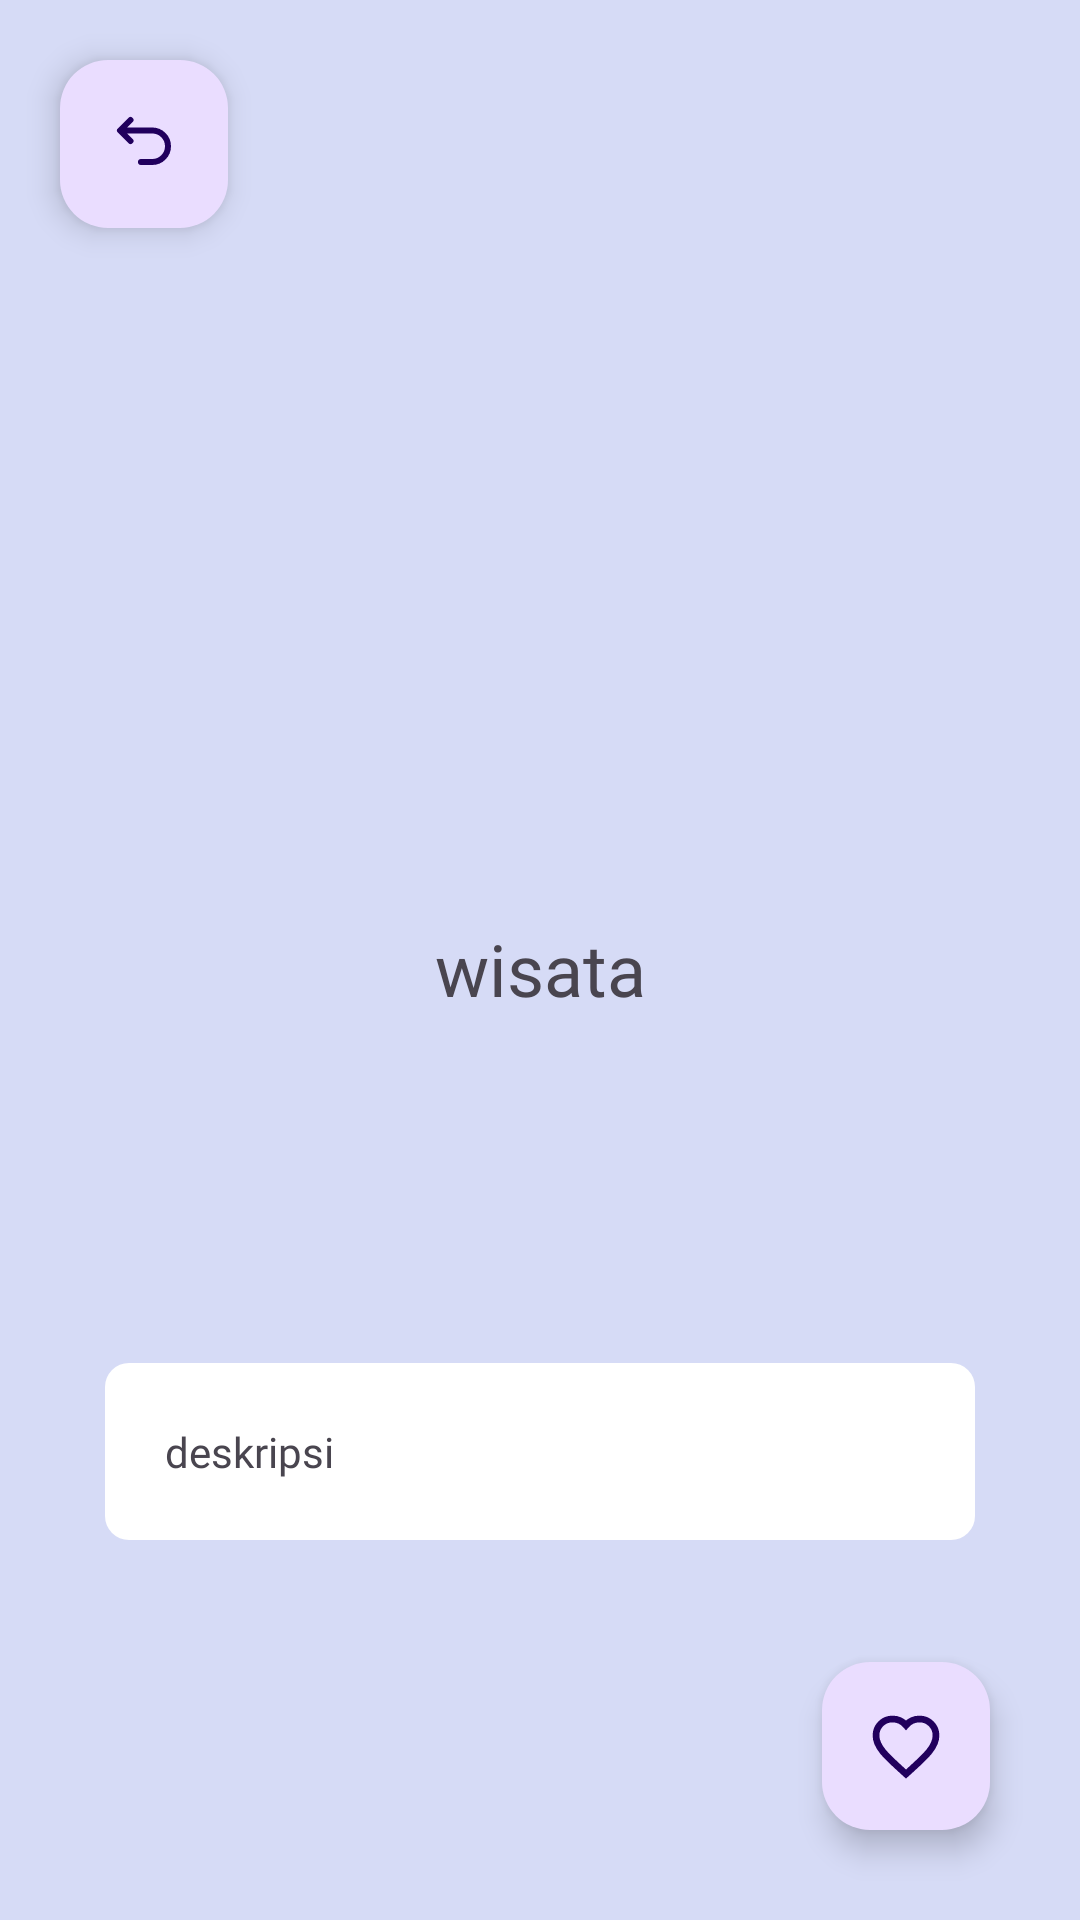

Locate icon controls on the screen. Image size 1080px×1920px, boxes as Rect(x1, y1, x2, y2).
back: Rect(60, 60, 228, 228)
like: Rect(822, 1662, 990, 1830)
